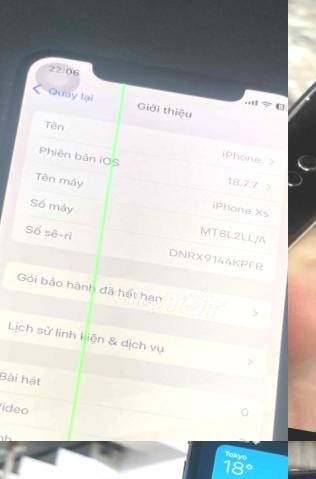screen_defect: (32, 77, 146, 441)
